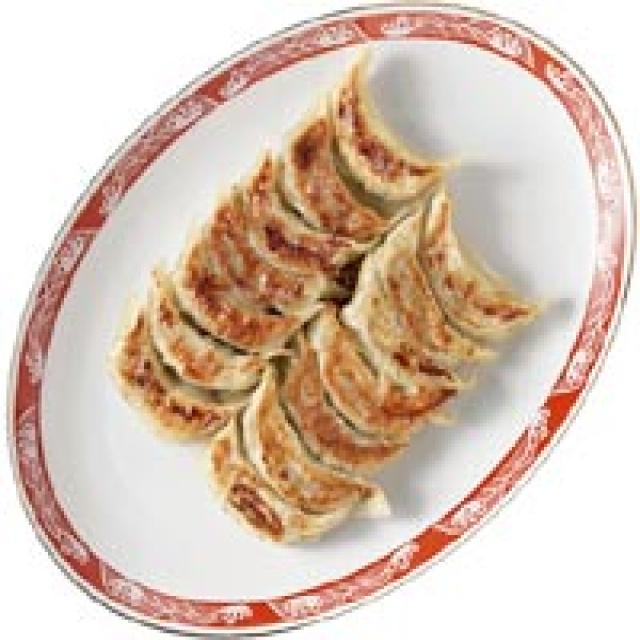带馅早点: (128, 48, 534, 548)
